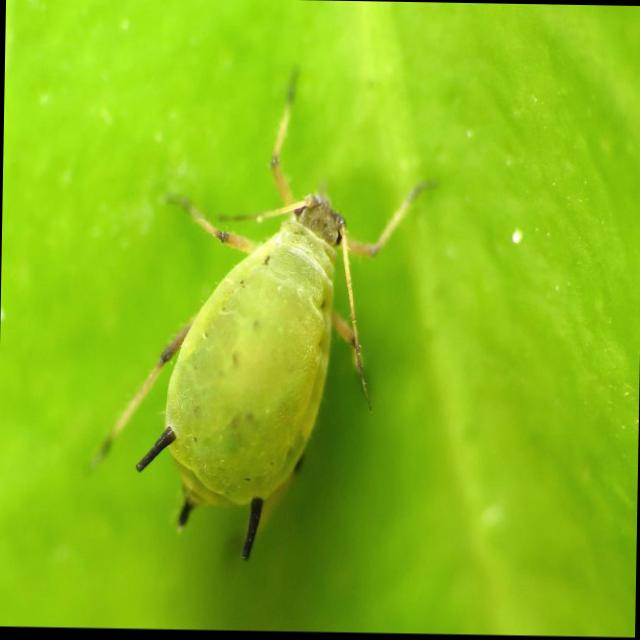Aphids: (86, 133, 422, 565)
